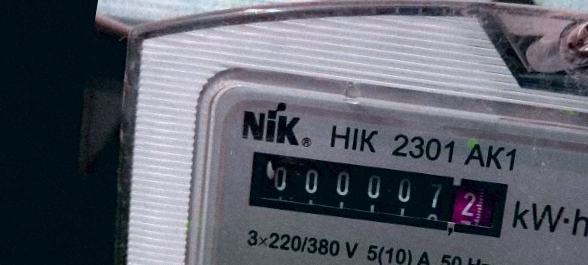0: (331, 167, 352, 197), (269, 162, 290, 191), (362, 171, 383, 200), (394, 175, 413, 205), (301, 165, 320, 194)
2: (458, 190, 478, 218)
7: (424, 178, 444, 210)
screen: (232, 136, 520, 251)
